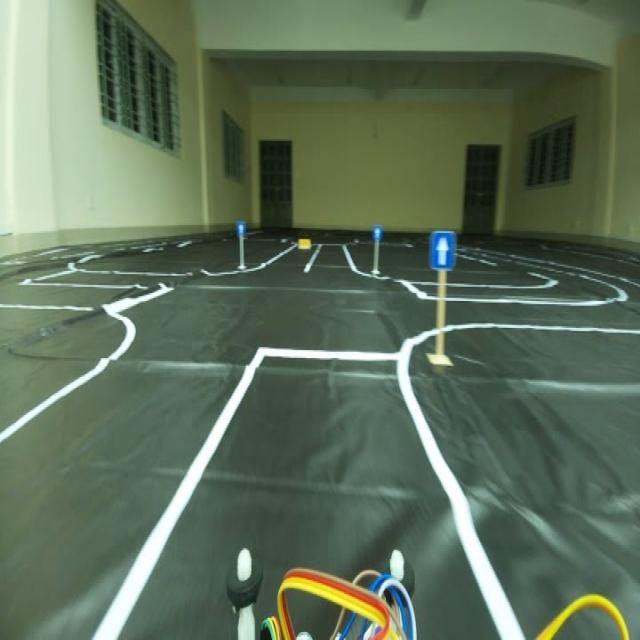onewayroad: (429, 224, 456, 277), (373, 221, 383, 245), (236, 216, 243, 238)
roadblock: (298, 234, 315, 258)
